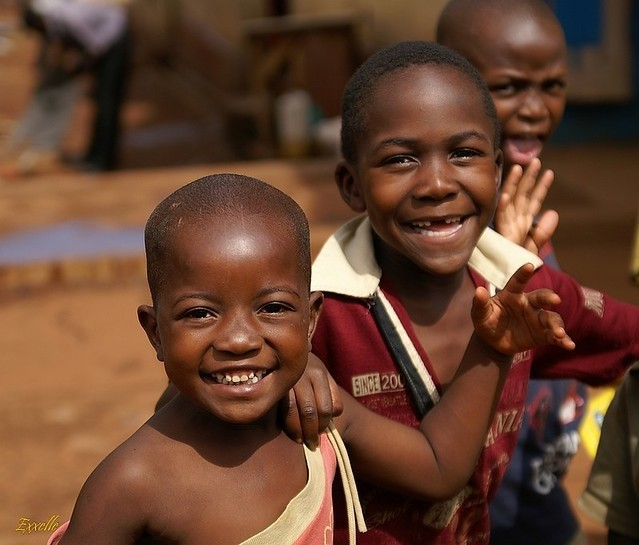face_no_mask: (136, 175, 320, 426), (338, 45, 505, 277), (437, 1, 566, 181)
